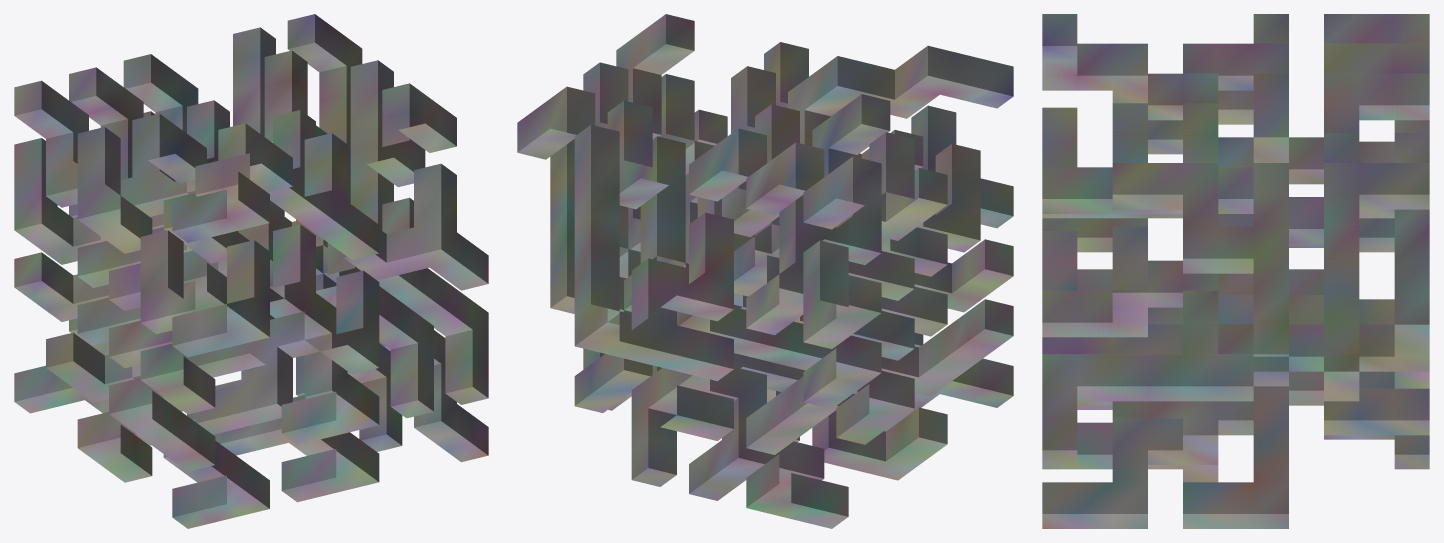
Rendered from cube_corridor.glb.
3 renders of one model, left to right at view 1: azimuth 30°, elevation 25°; view 2: azimuth 150°, elevation 25°; view 3: azimuth 270°, elevation 25°, orthographic. The views are drawn at different scales.
Parts seen in each view (by area): view 1: file1; view 2: file1; view 3: file1.
Boxes of the visible parts, <box> form: file1: <box>14,14,488,528</box>; file1: <box>517,14,1013,528</box>; file1: <box>1042,14,1429,528</box>.
Bounding box in the file's own units: 49.5 × 49.5 × 49.5.
Materials: 1 (1 with a texture image).
